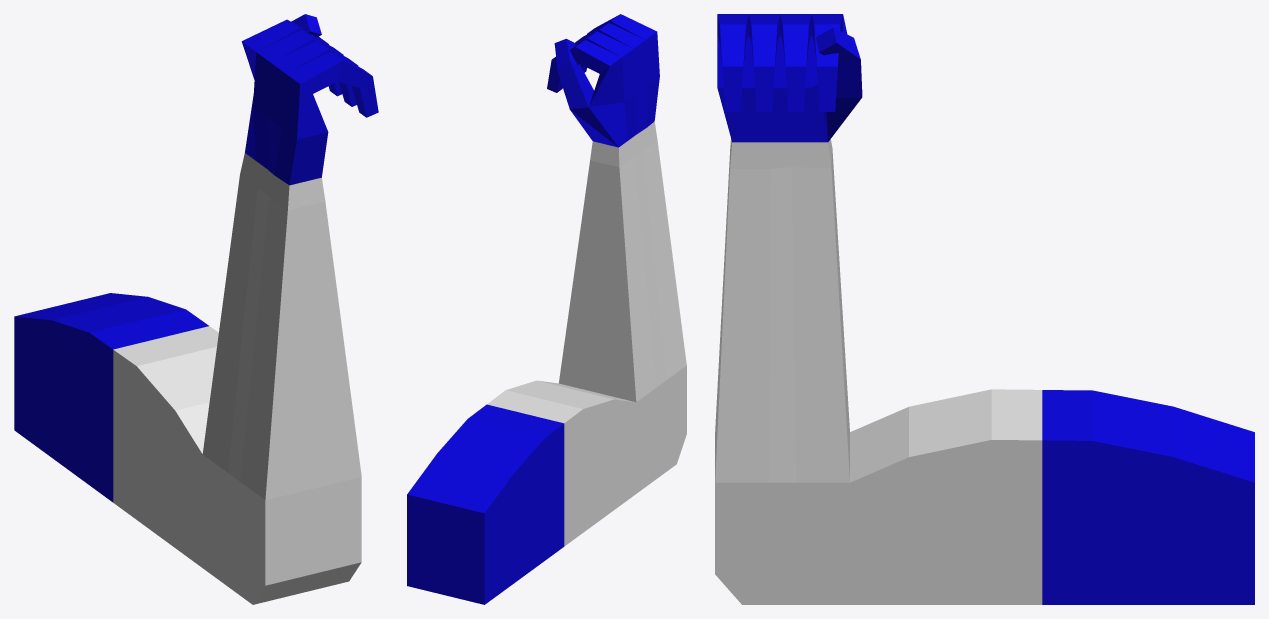
File: P2TestArm.fbx
3 renders of one model, left to right at view 1: azimuth 30°, elevation 25°; view 2: azimuth 150°, elevation 25°; view 3: azimuth 270°, elevation 25°, orthographic. The views are drawn at different scales.
Visible parts, largest first — view 1: Cube; view 2: Cube; view 3: Cube.
Part boxes in pixels (x1,y1,x2,y2): Cube: (14,14,378,604); Cube: (407,14,686,604); Cube: (715,14,1254,604).
Bounding box in the file's own units: 217 × 943 × 800.
